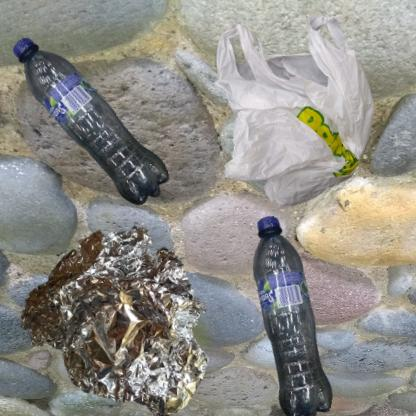aluminio: (10, 213, 226, 416)
bolsa: (213, 10, 383, 216)
botella: (10, 10, 195, 256), (213, 213, 388, 416)
